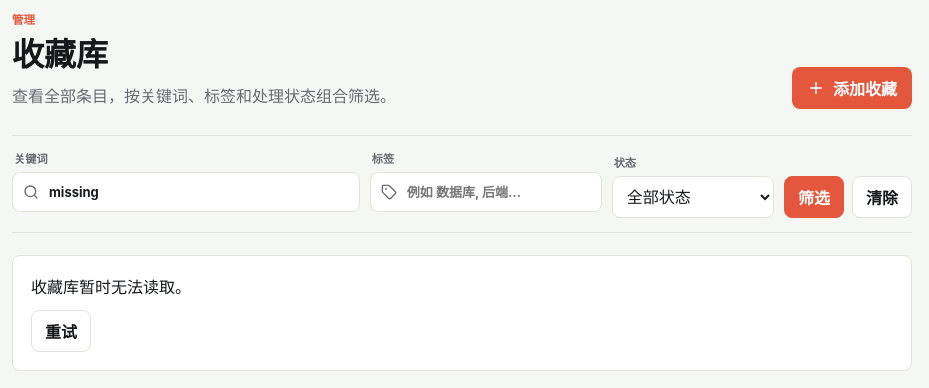
Test: LibraryView › distinguishes no filtered results and retries a failed request
Expected: the message reads "收藏库暂时无法读取。", [31,277,191,297]
Click the button "重试" at (61, 331), box [31,310,91,352]
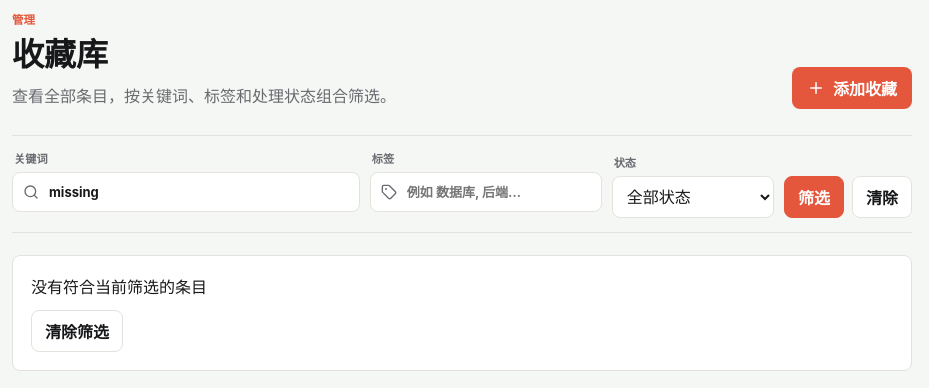
Now the text "没有符合当前筛选的条目" is shown, box [31,277,207,297]
Now the button "清除筛选" is shown, box [31,310,123,352]
